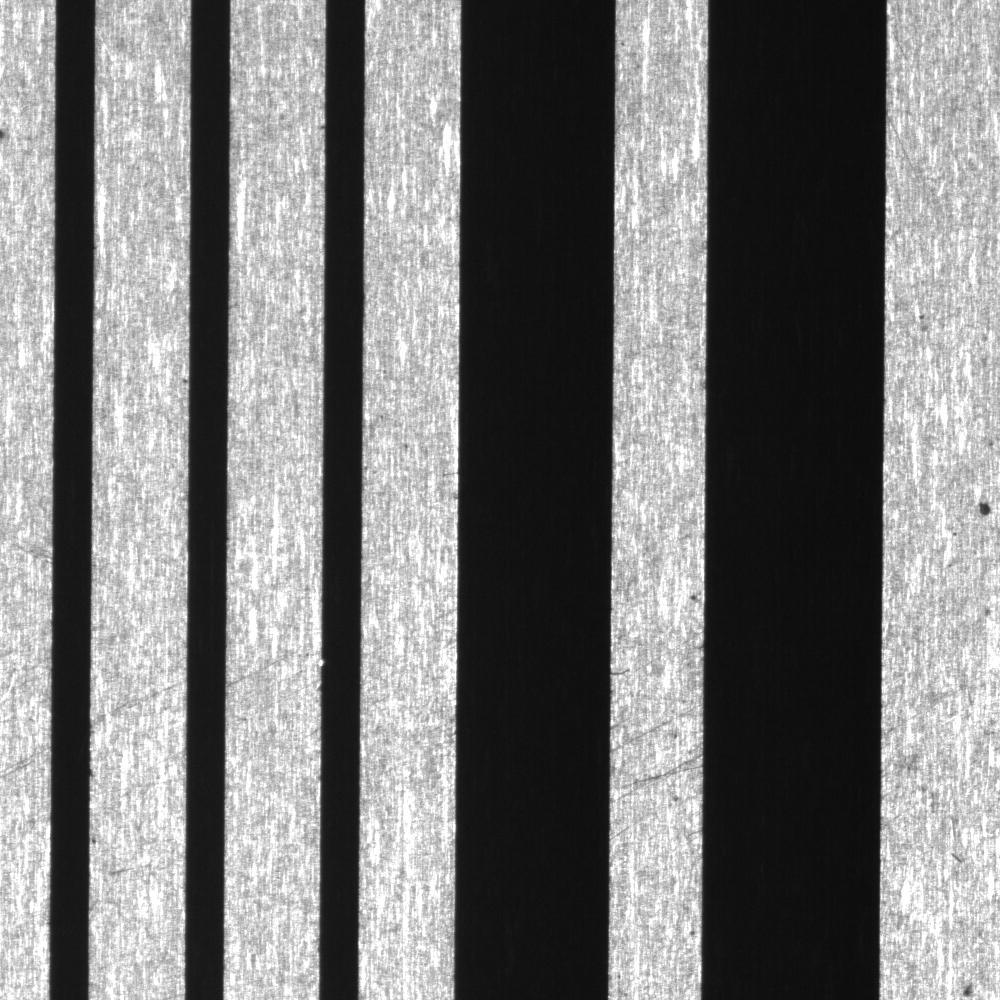Etching: (952, 964, 984, 1000), (966, 489, 996, 524)
Pinhole: (677, 583, 702, 604), (683, 916, 699, 945)
Scar: (881, 671, 990, 758), (610, 752, 701, 821), (367, 607, 453, 669), (92, 676, 181, 732), (224, 640, 314, 690), (883, 783, 962, 836), (614, 637, 710, 680), (612, 700, 701, 745), (888, 106, 931, 187), (2, 739, 46, 786)
